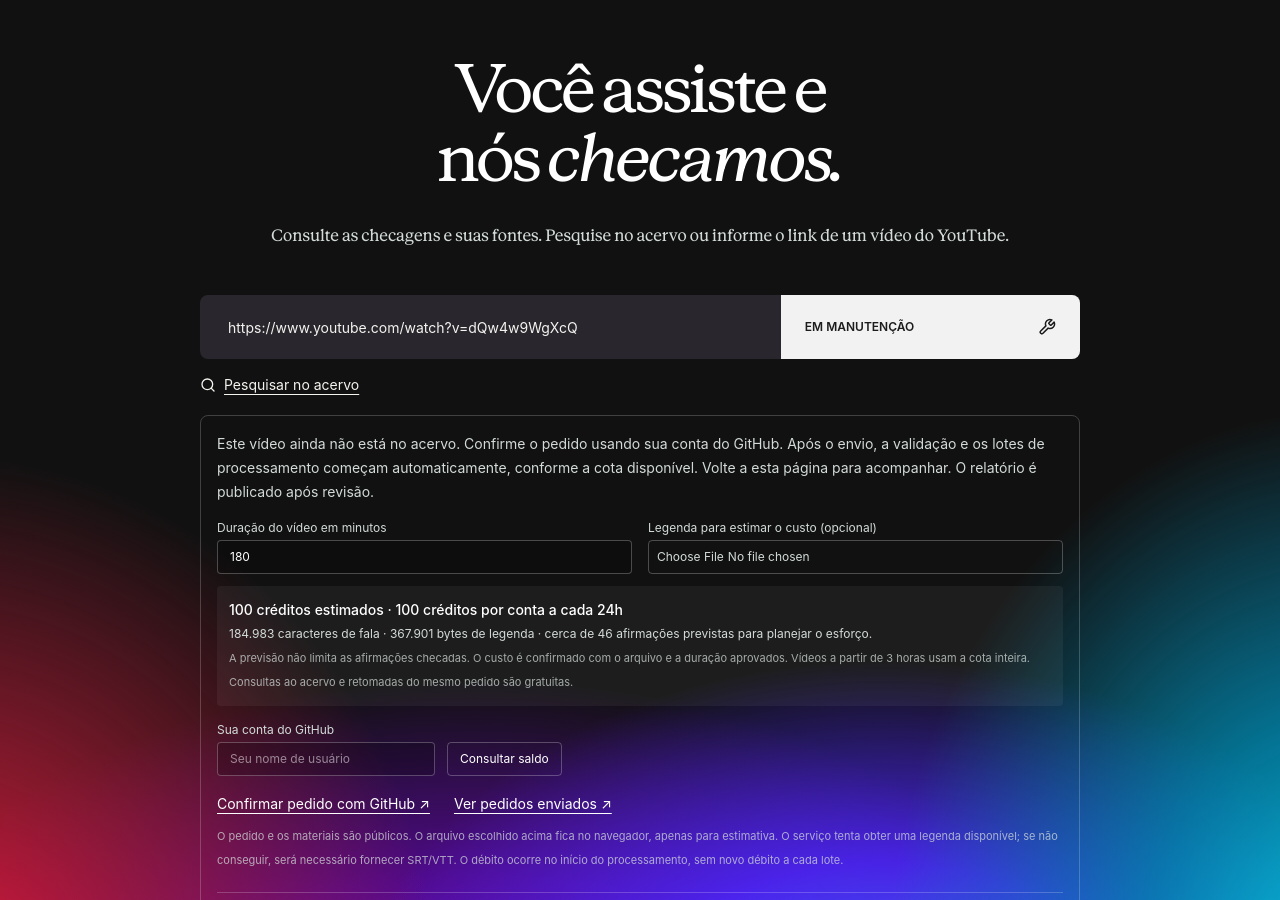
fluxo inicial › informa com honestidade quando não há snapshot nem backend
Expected: the text "Este vídeo ainda não está no acervo" is shown, 217,435 -> 1045,500
Expected: the text "100 créditos estimados · 100 créditos por conta a cada 24h" is shown, 229,601 -> 623,618
Clear the number field labelled "Duração do vídeo em minutos". click: (424, 557)
box: 217,540 -> 632,574
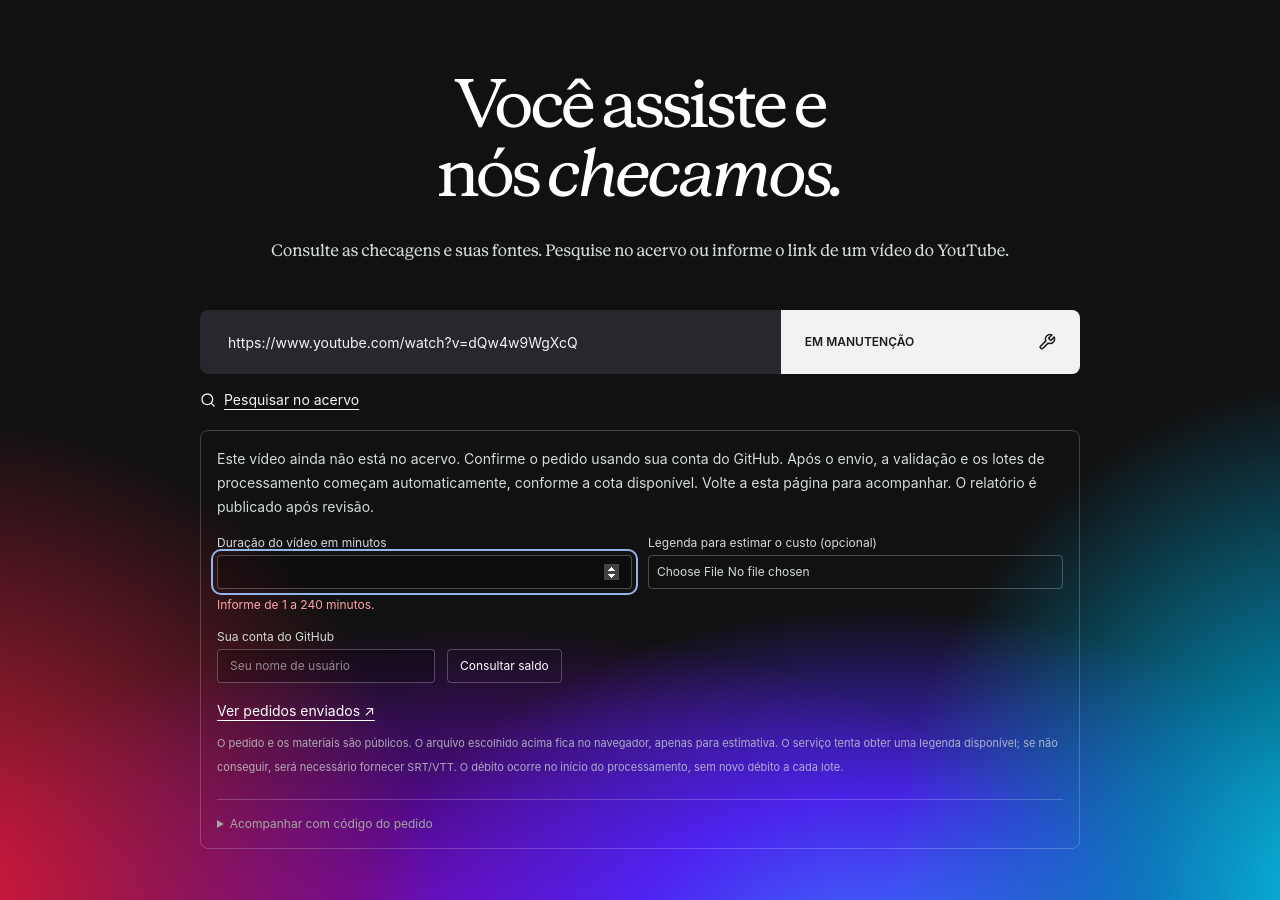
Type "30" into the number field labelled "Duração do vídeo em minutos". click: (424, 572)
box: 217,555 -> 632,589
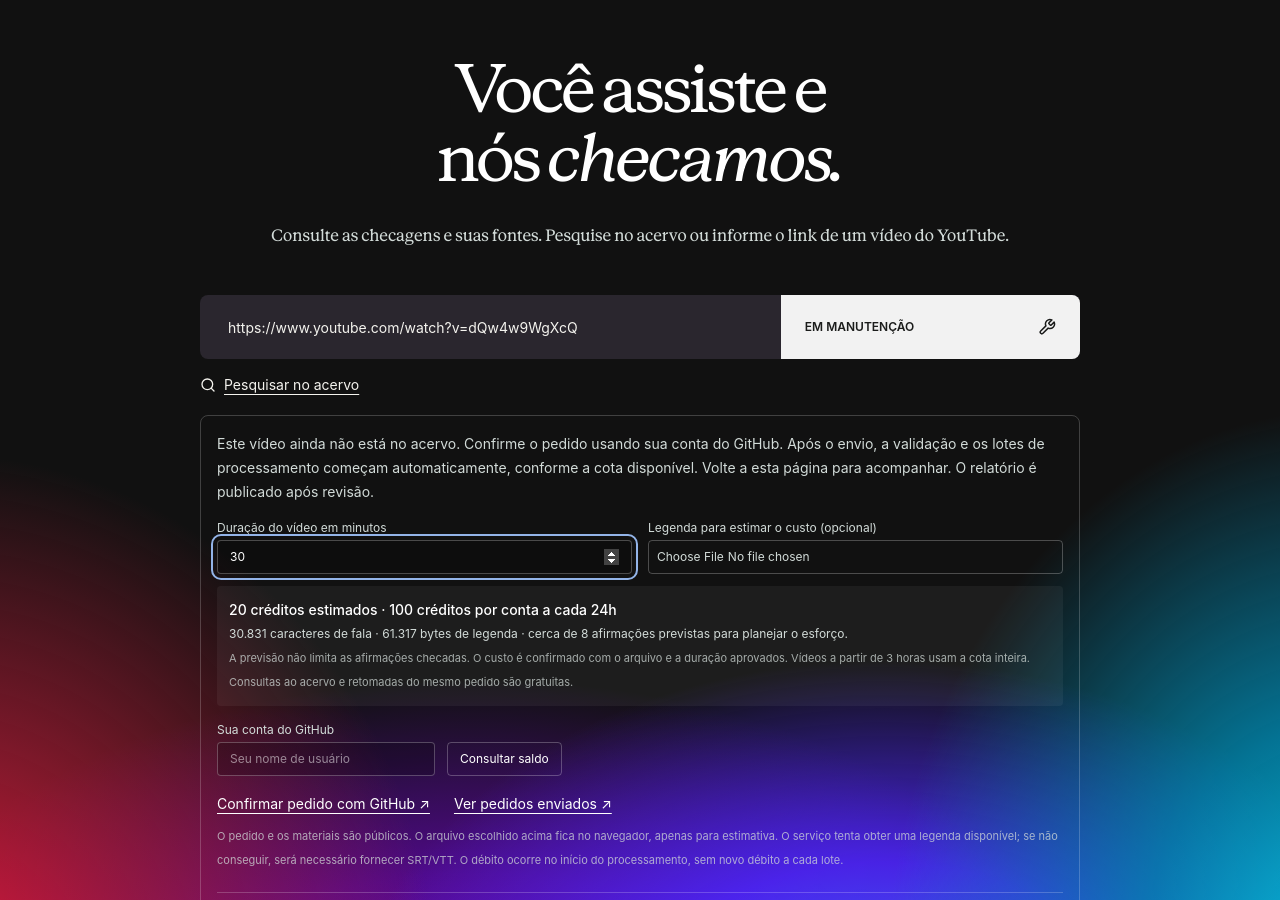
Now the text "20 créditos estimados · 100 créditos por conta a cada 24h" is shown, box 229,601 -> 617,618
Clear the field named "link do vídeo do YouTube". click: (490, 327)
box: 228,295 -> 753,359
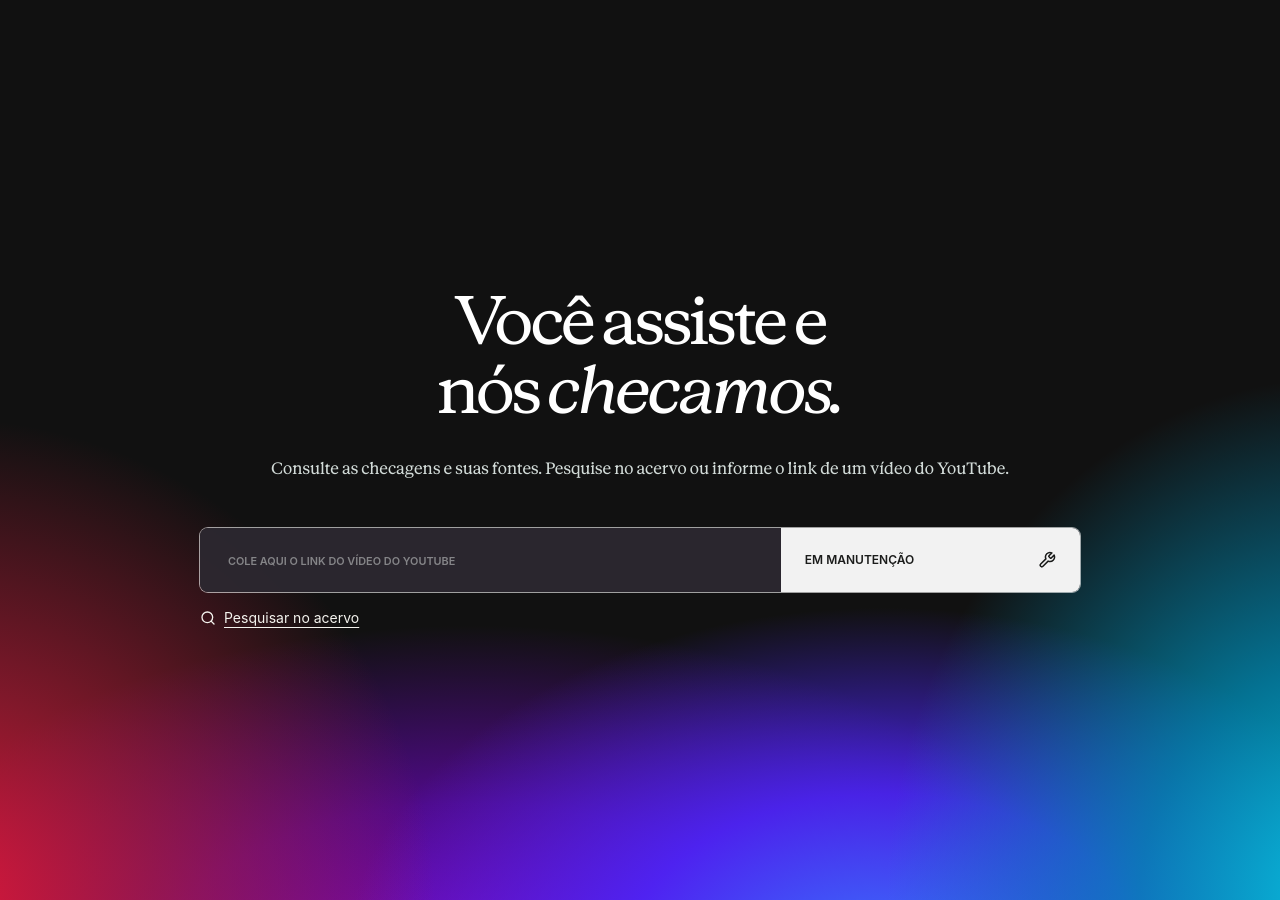
Now the link "Confirmar pedido com GitHub" is gone
